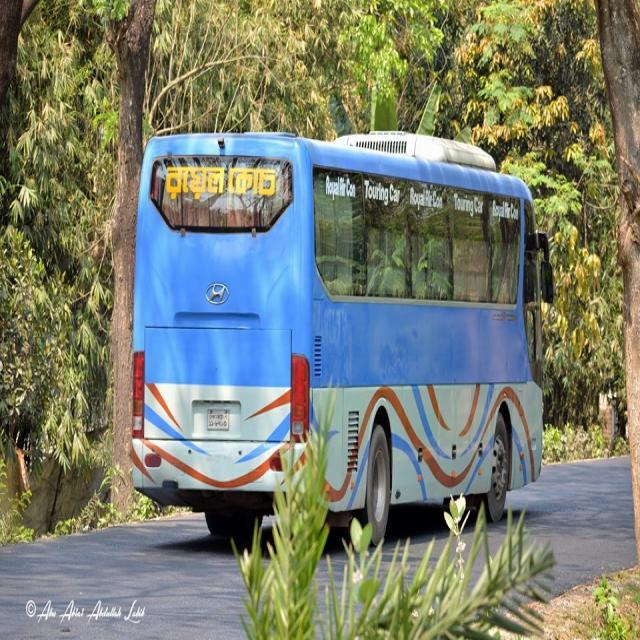bus: (130, 130, 555, 550)
